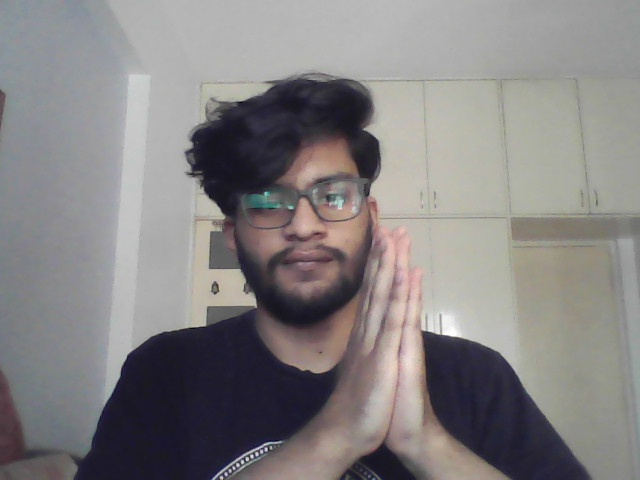Namaskara: (341, 223, 435, 465)
